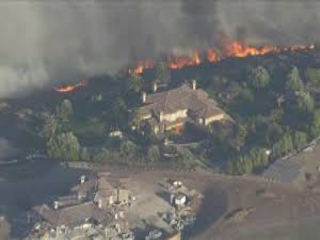fire: (225, 39, 315, 58), (167, 47, 221, 70), (53, 81, 91, 95), (128, 60, 157, 76)
smoke: (2, 3, 242, 51)
